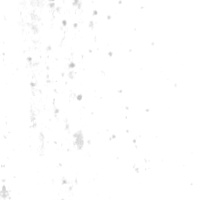pitted_surface: (31, 0, 171, 154)
